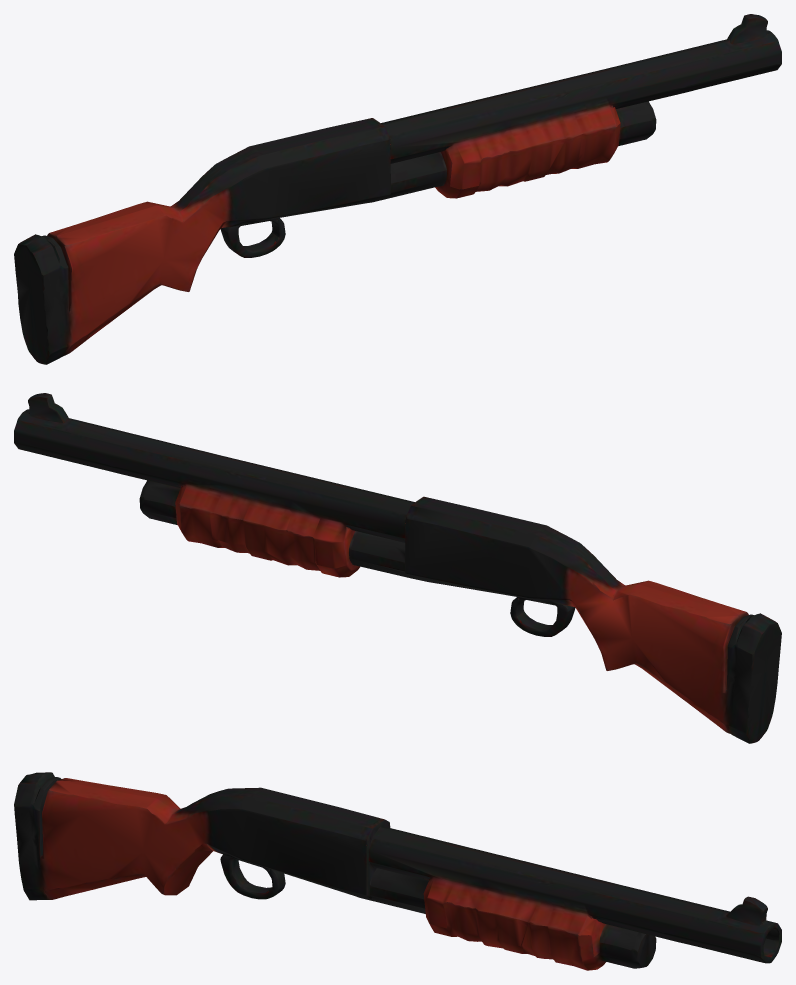
Rendered from gun-shotgun.glb.
3 views of the same model, one above another, from view 1: azimuth 30°, elevation 25°; view 2: azimuth 150°, elevation 25°; view 3: azimuth 330°, elevation 25° (orthographic).
Parts seen in each view (by area): view 1: world; view 2: world; view 3: world.
Boxes of the visible parts, x1,y1,x2,y2 form: world: (14, 14, 781, 364); world: (14, 393, 781, 743); world: (14, 772, 781, 970).
Bounding box in the file's own units: 1 × 0.2231 × 0.0891.
1 material, 1 textured.
